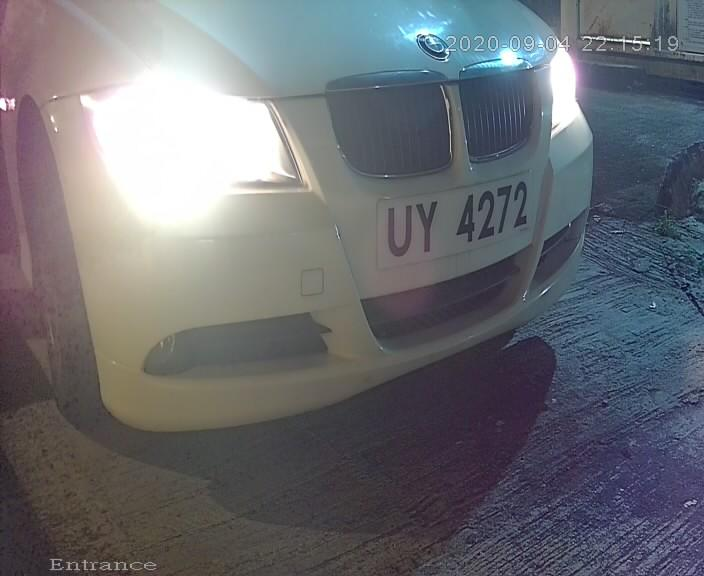License Plate: (384, 163, 532, 289)
